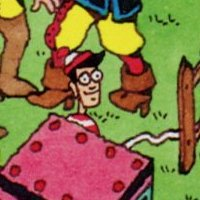waldo: (69, 47, 103, 111)
